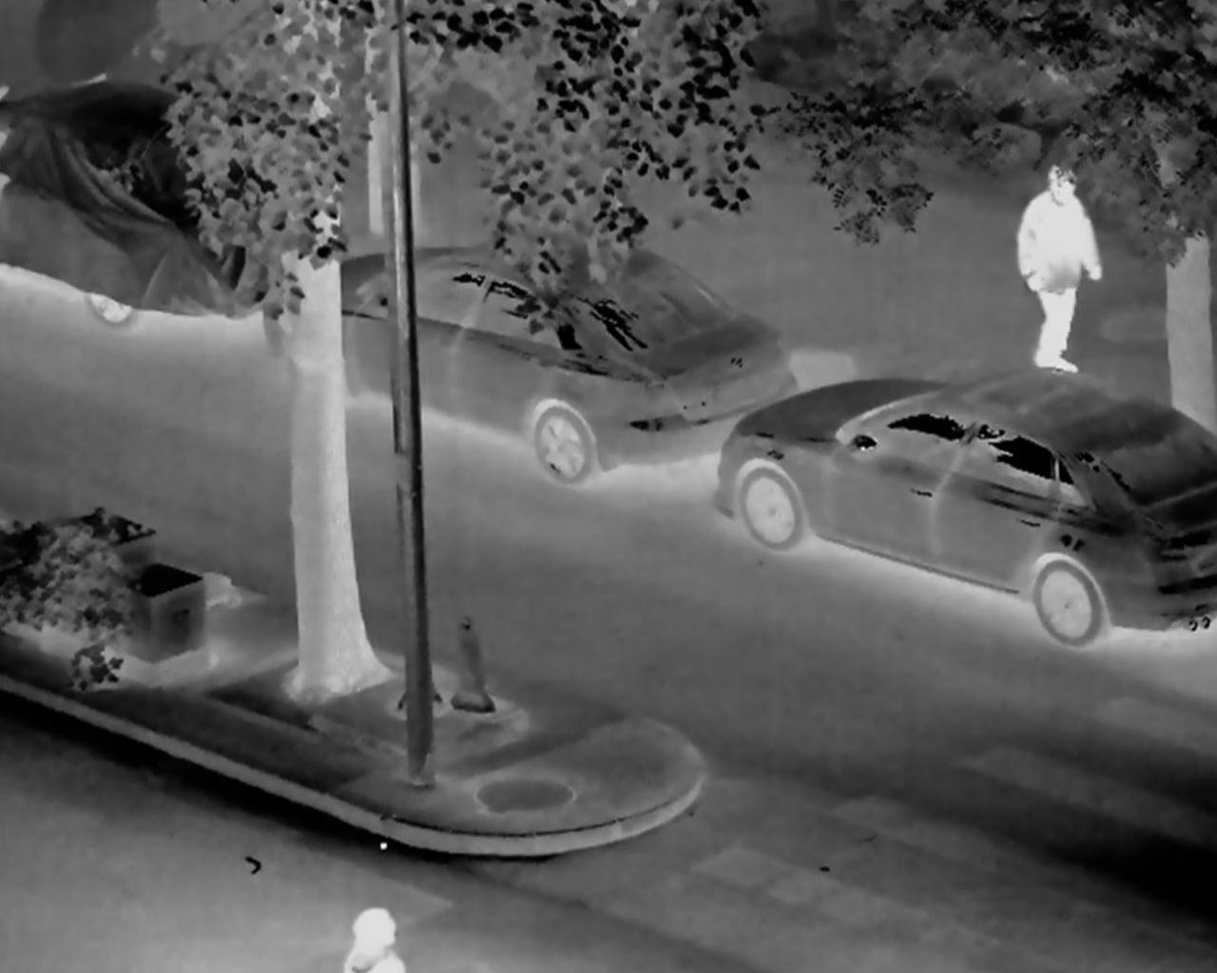person: (1004, 135, 1115, 395), (315, 899, 413, 973)
